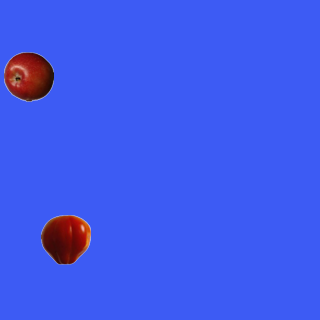Apple Braeburn: (3, 51, 53, 101)
Tomato 1: (40, 214, 90, 264)
